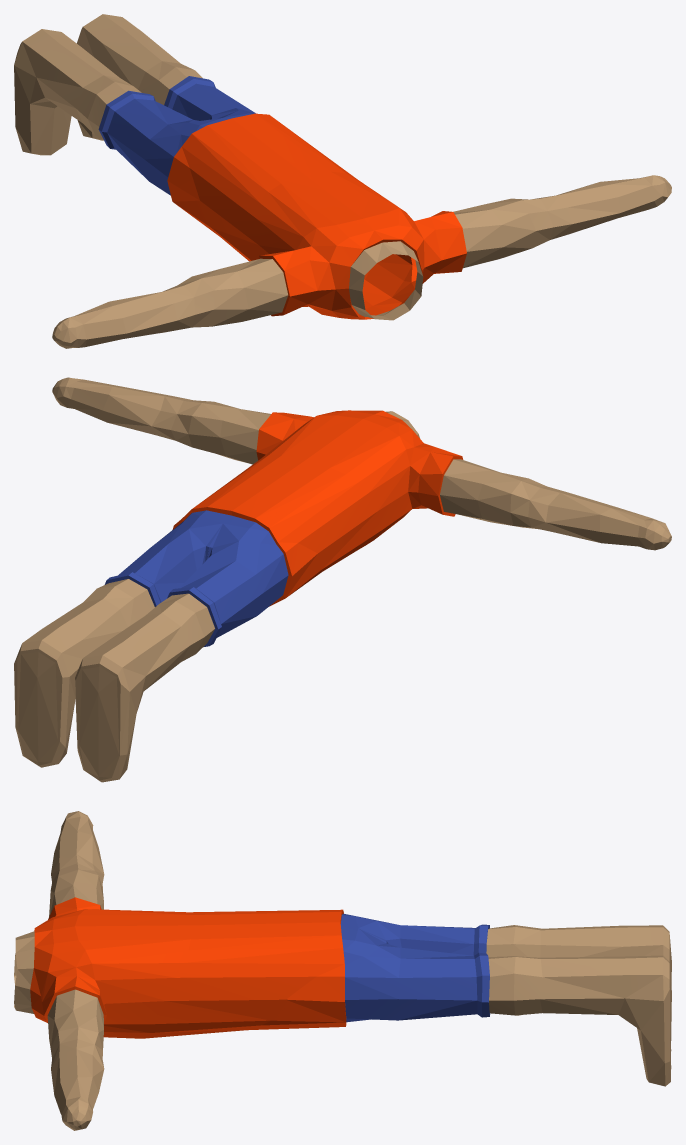
Rendered from SummerClothes.glb.
The picture shows the model from 3 angles, top to bottom: view 1: azimuth 30°, elevation 25°; view 2: azimuth 150°, elevation 25°; view 3: azimuth 270°, elevation 25°; orthographic projection.
Parts seen in each view (by area): view 1: SummerClothes; view 2: SummerClothes; view 3: SummerClothes.
Part boxes in pixels (x1,y1,x2,y2): SummerClothes: (14,14,671,348); SummerClothes: (14,377,671,782); SummerClothes: (14,811,671,1130).
Size of the model in its own units: 1.21 by 0.276 by 1.11.
Materials: 1 (1 with a texture image).
